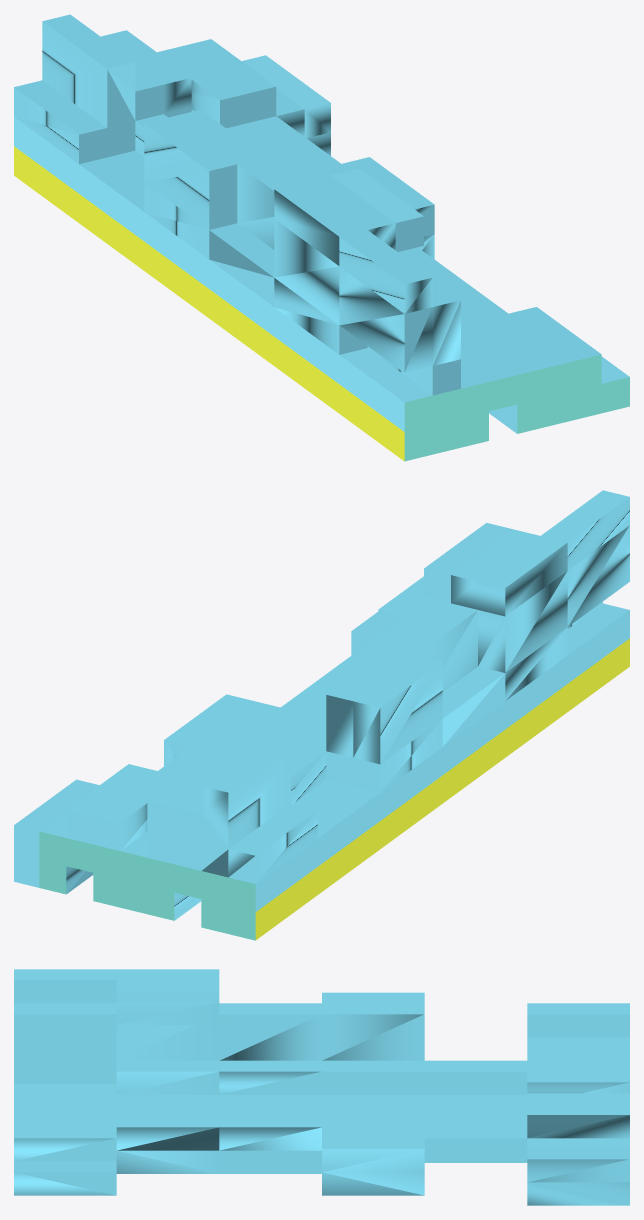
Rendered from shipyard_platform_h_cargopile_b.glb.
3 renders of one model, top to bottom at view 1: azimuth 30°, elevation 25°; view 2: azimuth 150°, elevation 25°; view 3: azimuth 270°, elevation 25°, orthographic. The views are drawn at different scales.
Bounding box in the file's own units: 22.34 × 15 × 60.
